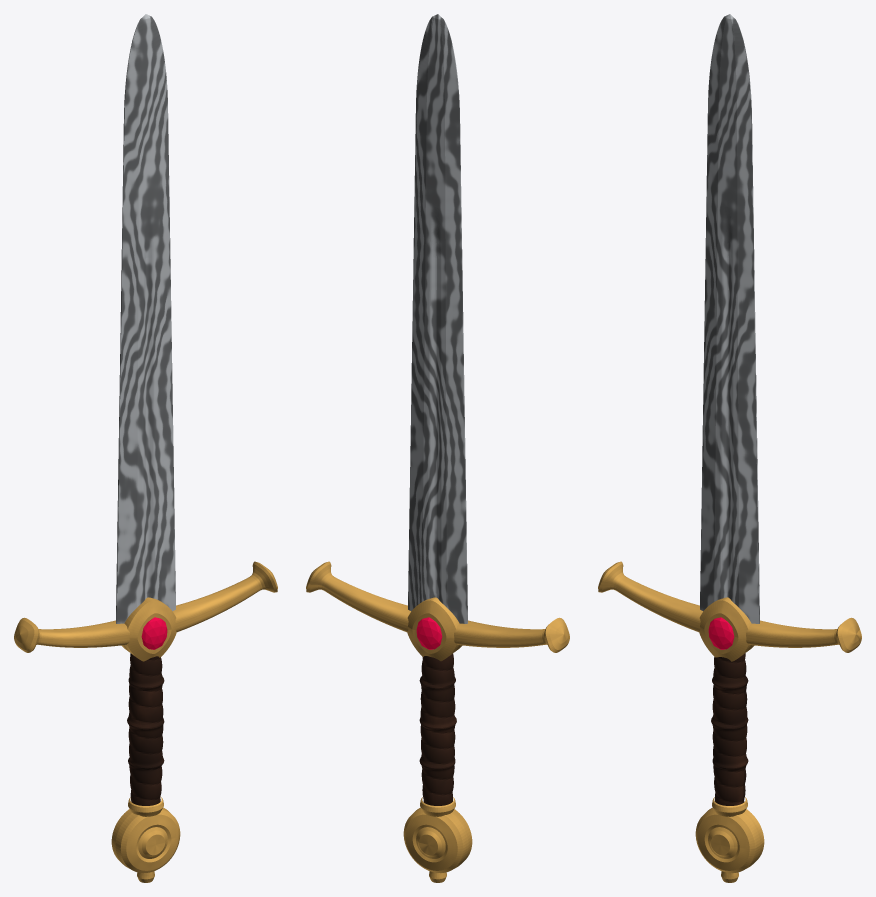
File: DamascusLongsword.glb
3 renders of one model, left to right at view 1: azimuth 30°, elevation 25°; view 2: azimuth 150°, elevation 25°; view 3: azimuth 330°, elevation 25°, orthographic.
Visible parts, largest first — view 1: Blade, Guard, Grip, Pommel, Gems; view 2: Blade, Guard, Grip, Pommel, Gems; view 3: Blade, Guard, Grip, Pommel, Gems.
Part boxes in pixels (box(x1,y1,x2,y2)): Blade: box(116, 14, 175, 623); Guard: box(14, 561, 277, 661); Grip: box(127, 653, 164, 805); Pommel: box(111, 807, 180, 882); Gems: box(141, 617, 167, 649); Blade: box(408, 14, 467, 623); Guard: box(306, 561, 569, 661); Grip: box(419, 653, 456, 805); Pommel: box(403, 807, 472, 882); Gems: box(416, 617, 442, 649); Blade: box(700, 14, 759, 623); Guard: box(598, 561, 861, 661); Grip: box(711, 653, 748, 805); Pommel: box(695, 807, 764, 882); Gems: box(708, 617, 734, 649).
Bounding box in the file's own units: 1.45 × 4.73 × 0.236.
4 materials, 3 textured.
